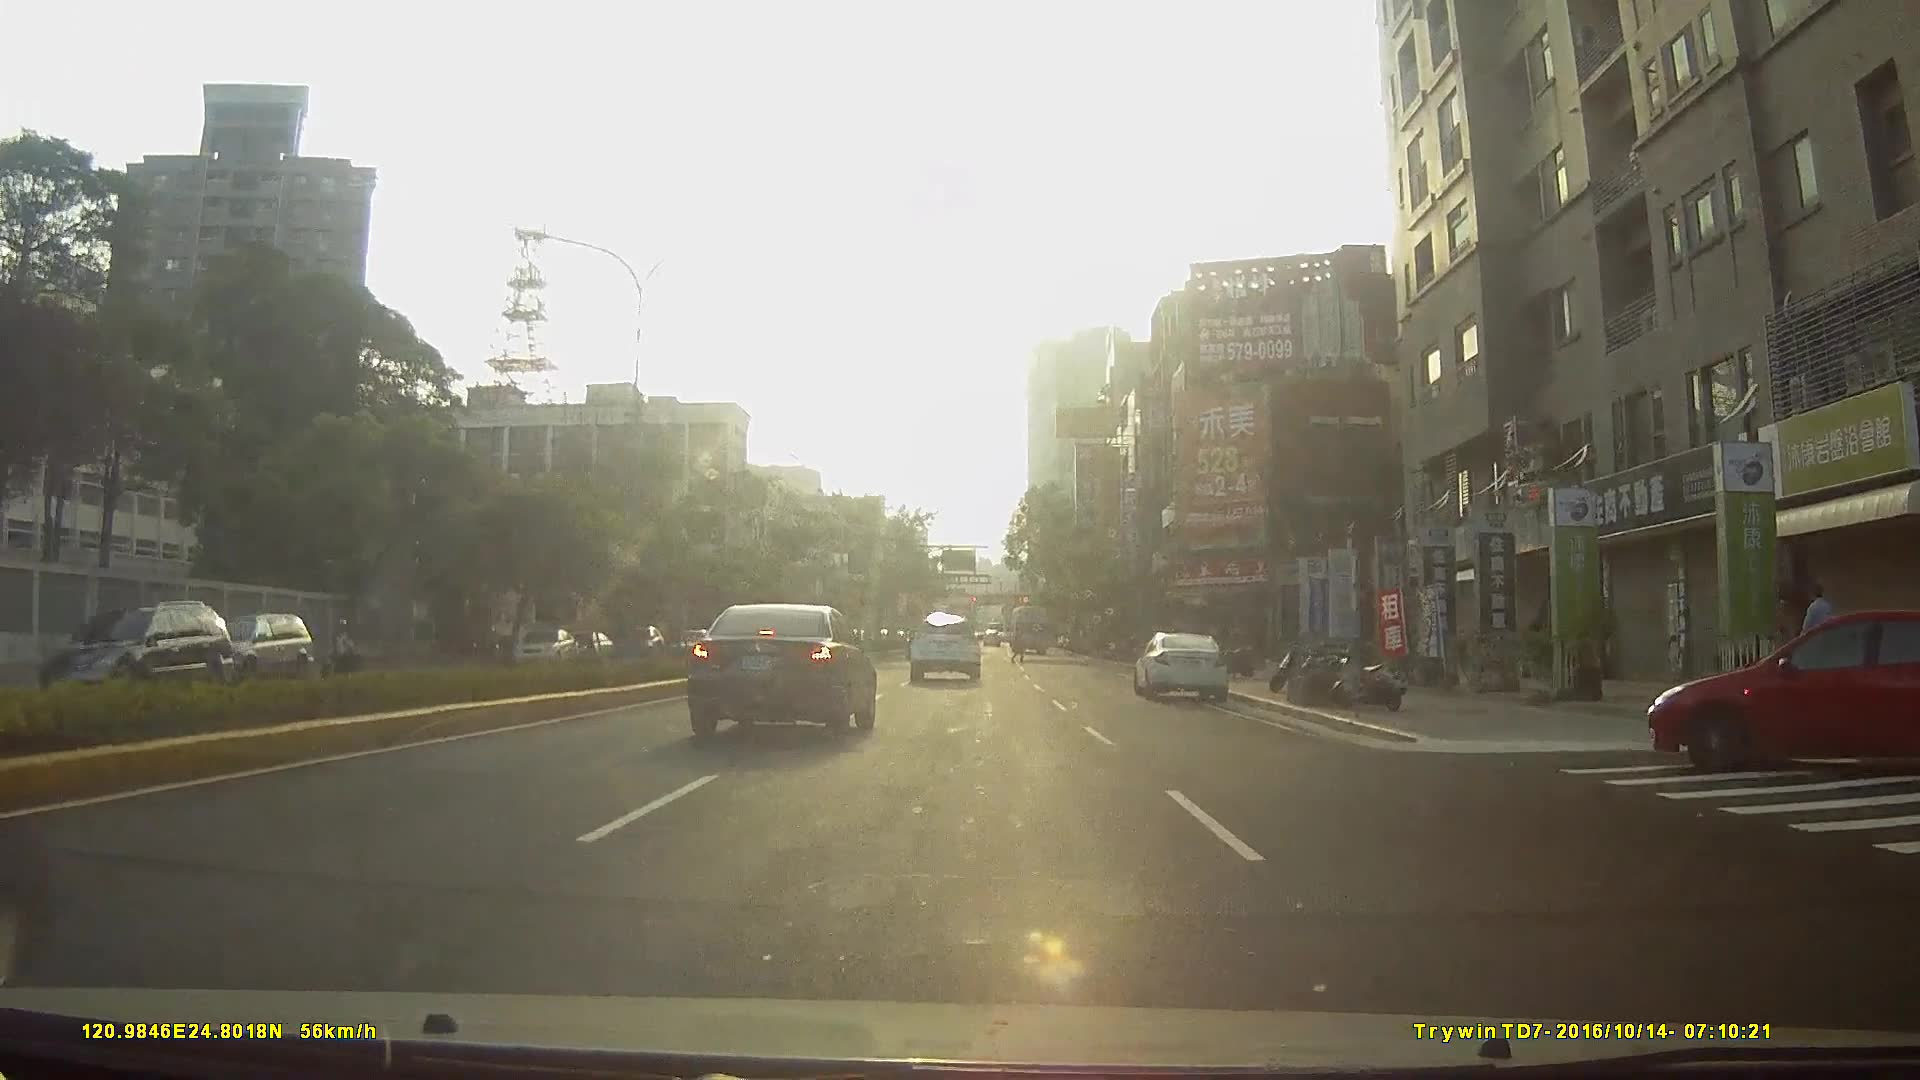pedestrian: (1794, 583, 1849, 688)
rider: (320, 612, 365, 693)
vehicle: (1640, 599, 1920, 784), (690, 600, 882, 739), (10, 595, 214, 696), (199, 608, 321, 686), (1133, 628, 1234, 703), (907, 610, 982, 680), (509, 624, 578, 664), (1007, 602, 1054, 654), (667, 627, 714, 663)
